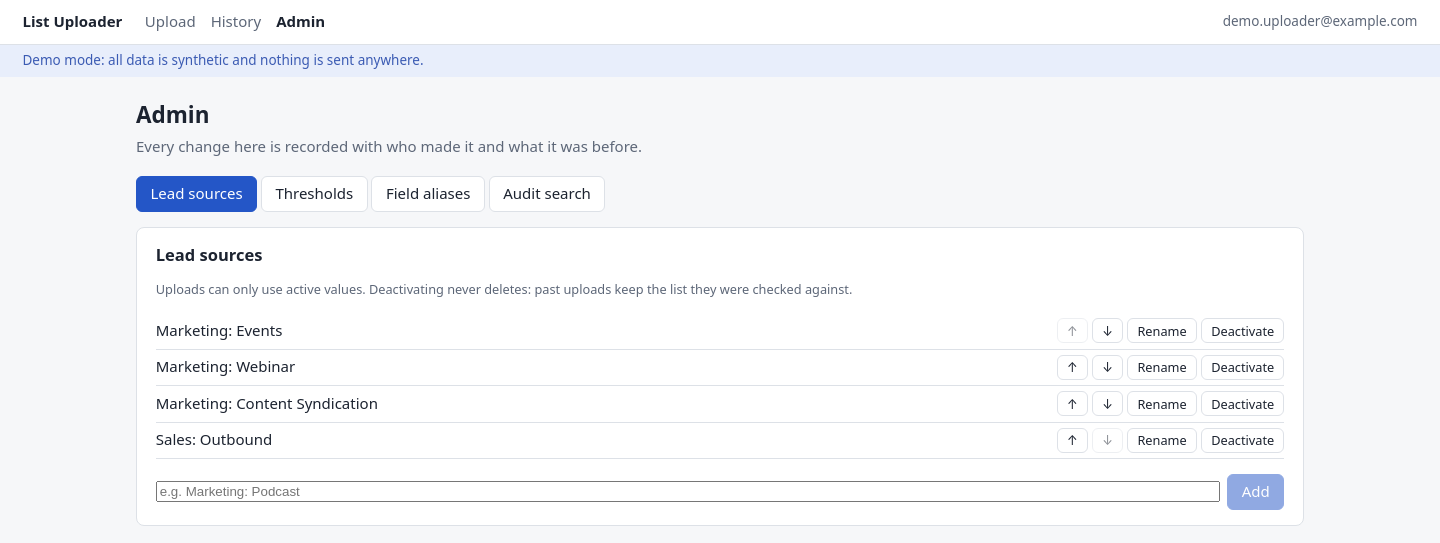
Test: admin › asks for a search term
What coordinates should you click on to do the following:
click the tab "Audit search"
I would click on:
 (547, 194)
Its box is [489,176,605,212].
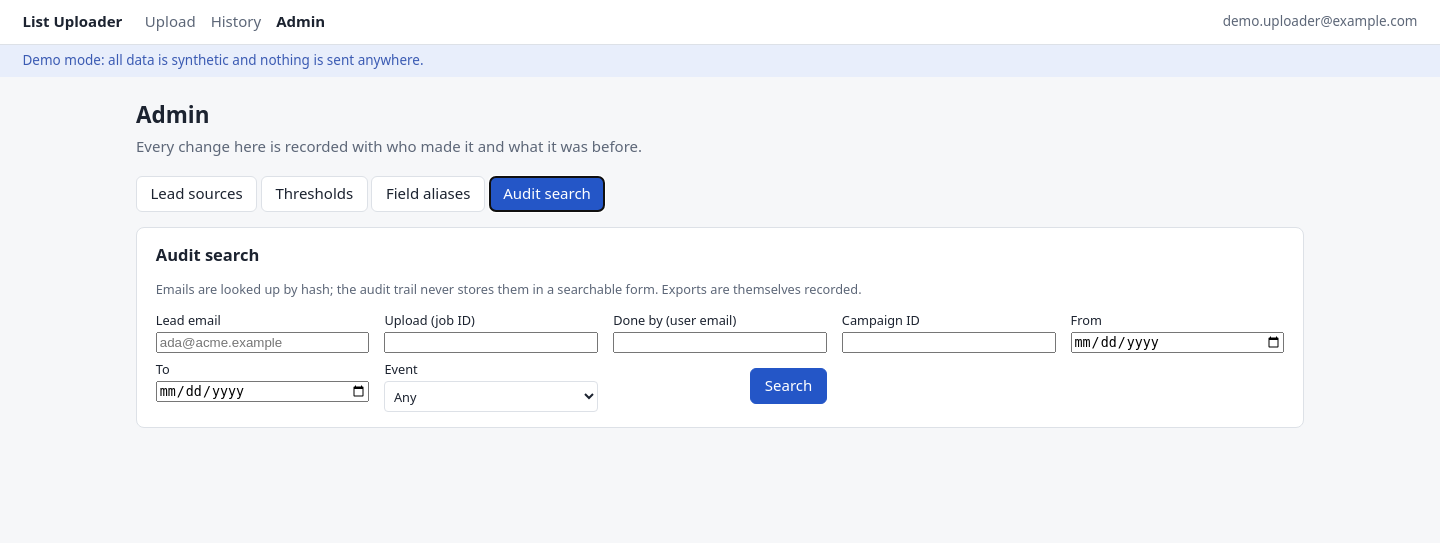
What coordinates should you click on to do the following:
click the button "Search"
I would click on:
 (789, 386)
Its box is [750,368,827,404].
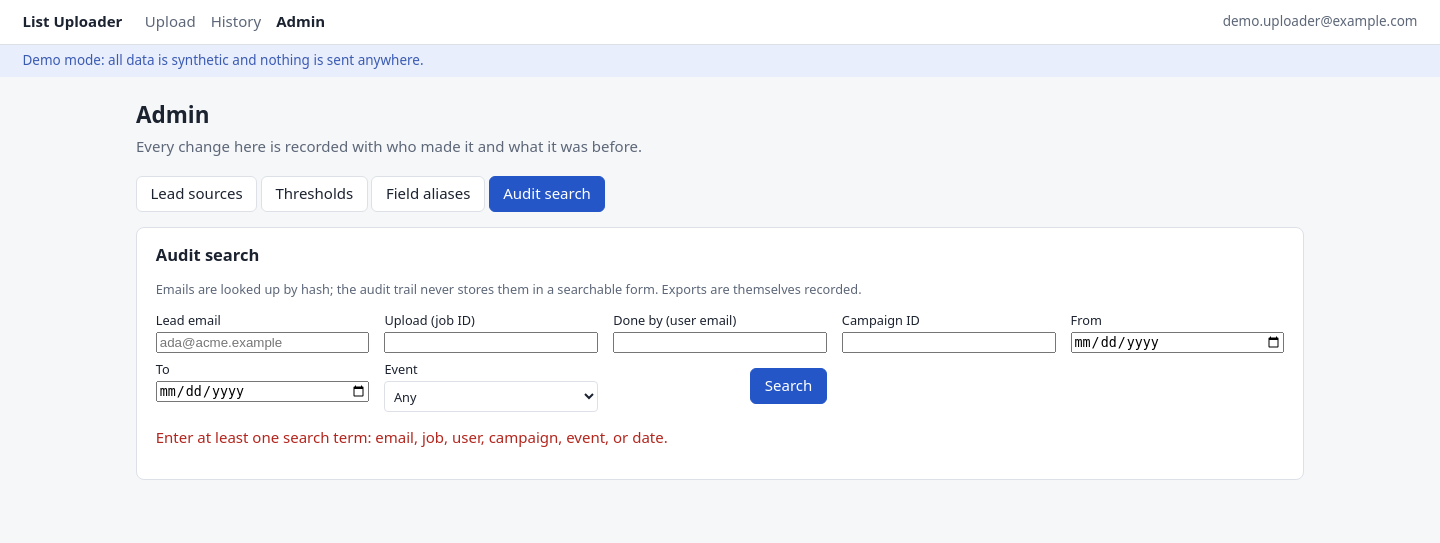
Now the message shows "Enter at least one search term", box [156,427,668,447]
